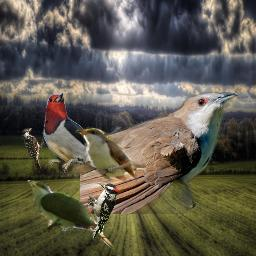Cuckoo: (80, 92, 238, 214), (26, 180, 117, 249), (74, 123, 146, 182)
Woodpecker: (40, 88, 116, 184), (87, 182, 118, 239), (22, 128, 45, 174)
